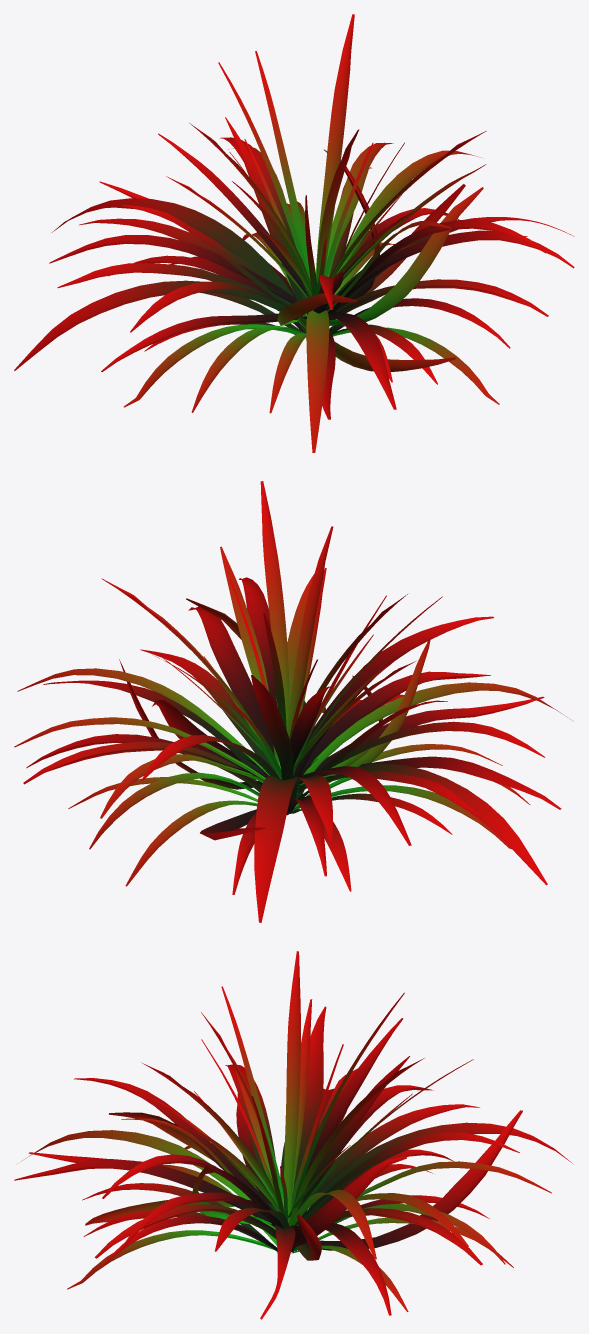
The model's file is PlantSucculent01.fbx.
3 renders of one model, top to bottom at view 1: azimuth 30°, elevation 25°; view 2: azimuth 150°, elevation 25°; view 3: azimuth 270°, elevation 25°, orthographic. The views are drawn at different scales.
Visible parts, largest first — view 1: _a3a9_Var1_LOD0; view 2: _a3a9_Var1_LOD0; view 3: _a3a9_Var1_LOD0.
Boxes of the visible parts, x1,y1,x2,y2 form: _a3a9_Var1_LOD0: [14, 14, 574, 452]; _a3a9_Var1_LOD0: [14, 481, 573, 922]; _a3a9_Var1_LOD0: [14, 951, 573, 1319].
Size of the model in its own units: 59.28 by 27.18 by 55.59.
